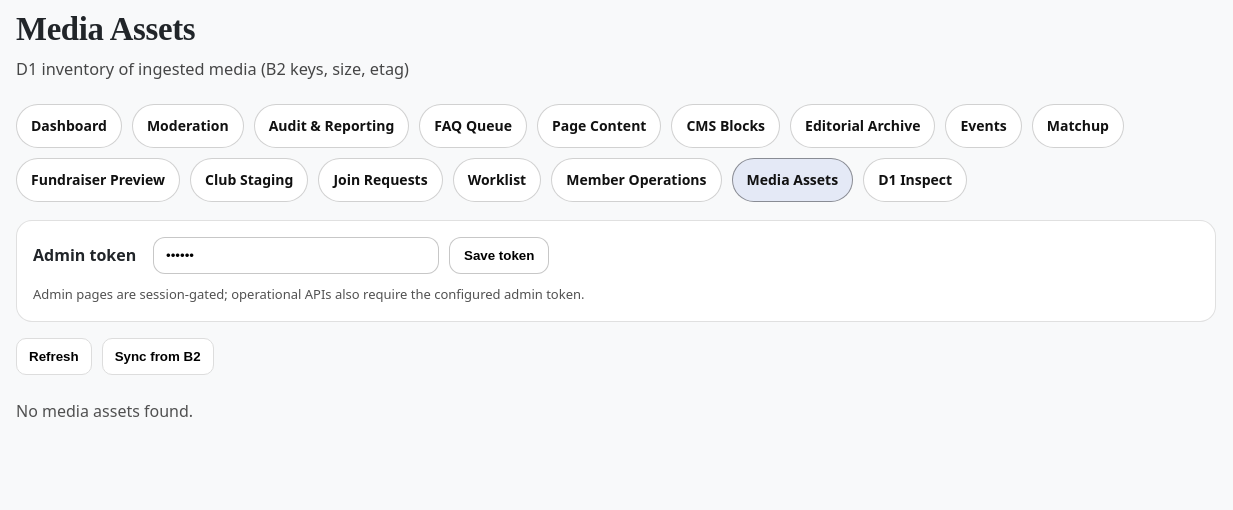
Test case: admin media assets page › shows fail-closed sync errors from the API
Expected: the text "No media assets found." is shown, [16,400,193,422]
Click the button "Sync from B2". click: (158, 357)
box: [102,338,214,375]
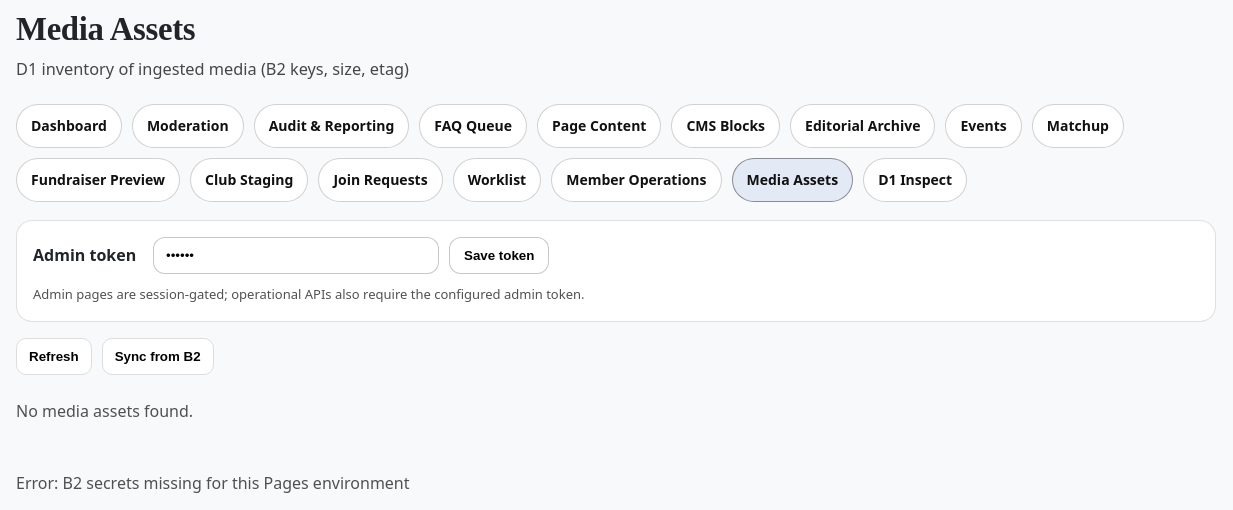
Now the message reads "Error: B2 secrets missing for this Pages environment", box [16,472,410,494]
